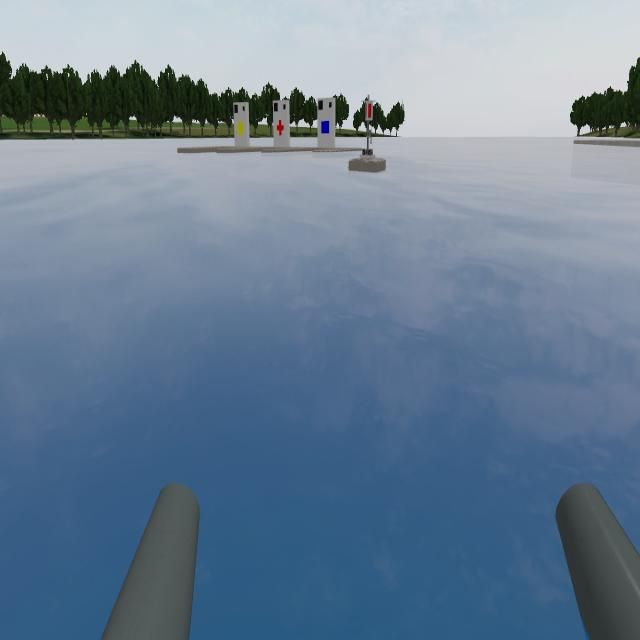red_pole: (362, 93, 376, 133)
